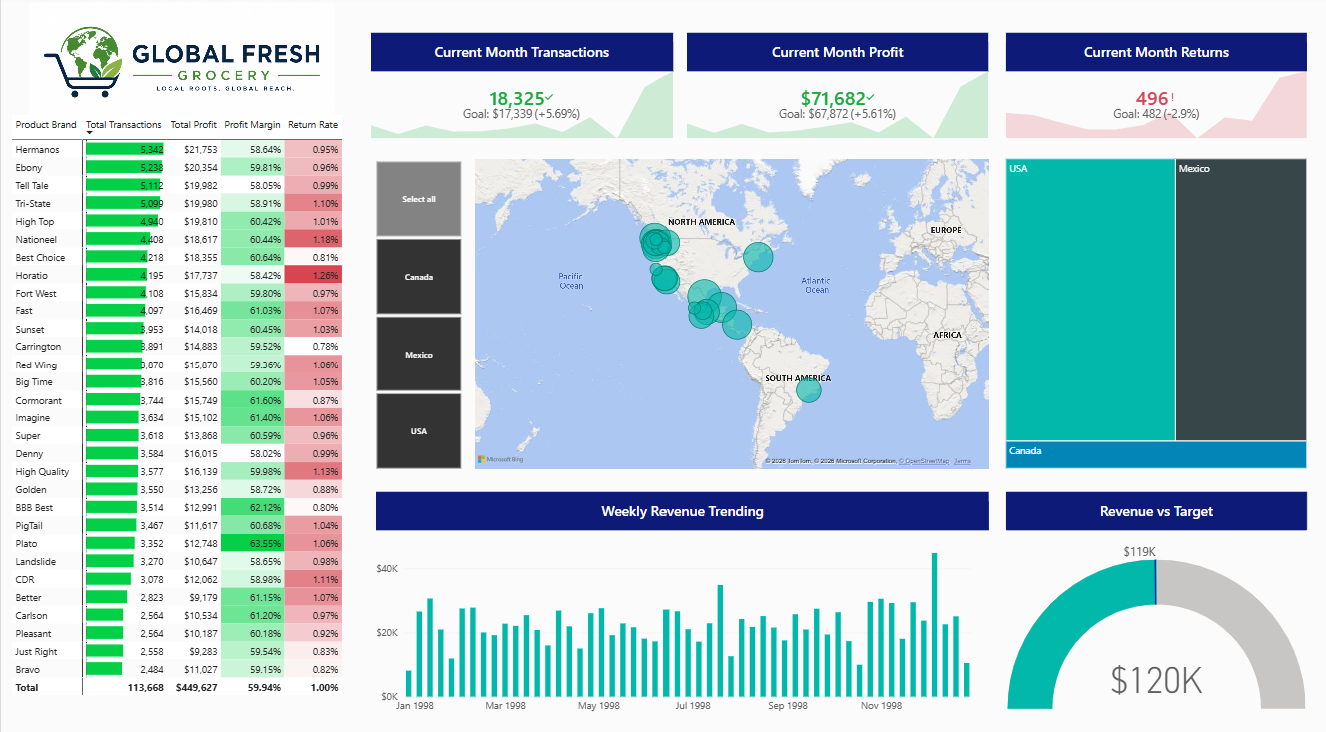

Layout of this report page (visuals, bound fields, positions):
{"tool":"powerbi","page":{"name":"Performance","canvas":[1920,1080],"ordinal":1},"visuals":[{"type":"pivotTable","fields":{"Rows":["Products.product_brand"],"Values":["Transaction_Data.Total Transactions","Transaction_Data.Total Profit","Transaction_Data.Profit Margin","Returns_Data.Return Rate"]},"box":[0,160.1,522.8,919.9],"z":0},{"type":"kpi","title":"Current Month Transactions","fields":{"Indicator":["Transaction_Data.Total Transactions"],"TrendLine":["Calendar.Start of Month"],"Goal":["Transaction_Data.Last Month Transactions"]},"box":[535.9,55,435.9,168.8],"z":1000},{"type":"kpi","title":"Current Month Profit","fields":{"TrendLine":["Calendar.Start of Month"],"Indicator":["Transaction_Data.Total Profit"],"Goal":["Transaction_Data.Last Month Profit"]},"box":[992.2,55,435.9,168.8],"z":2000},{"type":"kpi","title":"Current Month Returns","fields":{"TrendLine":["Calendar.Start of Month"],"Indicator":["Returns_Data.Total Returns"],"Goal":["Returns_Data.Last Month Returns"]},"box":[1453.1,55,435.9,168.8],"z":3000},{"type":"map","fields":{"Category":["Stores.City"],"Size":["Transaction_Data.Total Transactions"]},"box":[685.9,223.4,742.2,481.2],"z":4000},{"type":"slicer","fields":{"Values":["Stores.Country"]},"box":[523.4,239.1,162.5,450],"z":5000},{"type":"treemap","fields":{"Group":["Stores.Country","Stores.State or Province","Stores.City"],"Values":["Transaction_Data.Total Transactions"]},"box":[1453.1,223.4,435.9,479.7],"z":6000},{"type":"columnChart","title":"Weekly Revenue Trending","fields":{"Y":["Transaction_Data.Total Revenue"],"Category":["Calendar.Start of Week"]},"box":[542.2,720.3,885.9,340.6],"z":7000},{"type":"gauge","title":"Revenue vs Target","fields":{"Y":["Transaction_Data.Total Revenue"],"TargetValue":["Transaction_Data.Revenue Target"]},"box":[1453.1,720.3,435.9,340.6],"z":8000},{"type":"image","box":[0,10,524,169],"z":9000}]}

Visuals, with their boxes in screenshot pixels (x1, y1, x2, y2), scaled from the page's 1920x1080 canvas onto the 1326x732 screenshot:
pivotTable - Products.product_brand x Transaction_Data.Total Transactions: {"left": 0, "top": 109, "right": 361, "bottom": 731}
"Current Month Transactions" kpi: {"left": 370, "top": 37, "right": 671, "bottom": 152}
"Current Month Profit" kpi: {"left": 685, "top": 37, "right": 986, "bottom": 152}
"Current Month Returns" kpi: {"left": 1004, "top": 37, "right": 1305, "bottom": 152}
map - Stores.City x Transaction_Data.Total Transactions: {"left": 474, "top": 151, "right": 986, "bottom": 478}
slicer - Stores.Country: {"left": 361, "top": 162, "right": 474, "bottom": 467}
treemap - Stores.Country x Stores.State or Province: {"left": 1004, "top": 151, "right": 1305, "bottom": 477}
"Weekly Revenue Trending" columnChart: {"left": 374, "top": 488, "right": 986, "bottom": 719}
"Revenue vs Target" gauge: {"left": 1004, "top": 488, "right": 1305, "bottom": 719}
image: {"left": 0, "top": 7, "right": 362, "bottom": 121}
